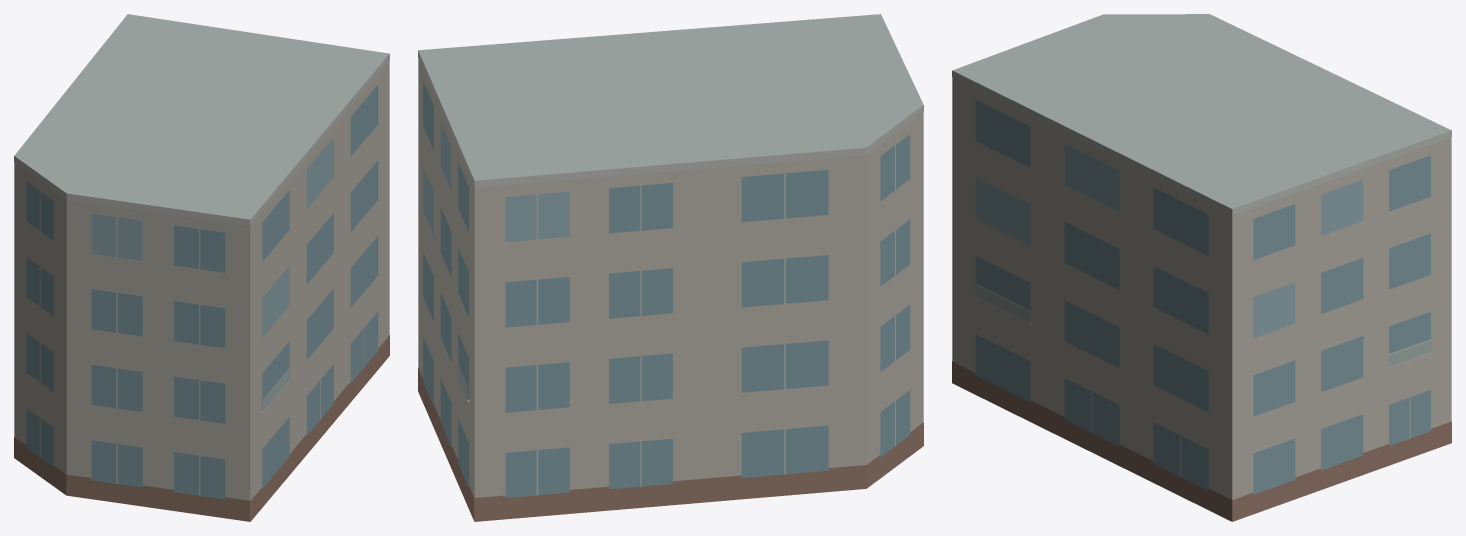
The model's file is survey-upis-32985429.glb.
The picture shows the model from 3 angles, left to right: view 1: azimuth 30°, elevation 25°; view 2: azimuth 150°, elevation 25°; view 3: azimuth 270°, elevation 25°; orthographic projection. The views are drawn at different scales.
Parts seen in each view (by area): view 1: survey-upis-32985429.tmp; view 2: survey-upis-32985429.tmp; view 3: survey-upis-32985429.tmp.
Part boxes in pixels (bbox=[...]): survey-upis-32985429.tmp: bbox=[14, 14, 389, 521]; survey-upis-32985429.tmp: bbox=[418, 14, 923, 521]; survey-upis-32985429.tmp: bbox=[952, 14, 1451, 521].
Size of the model in its own units: 15.66 by 11.7 by 16.95.
